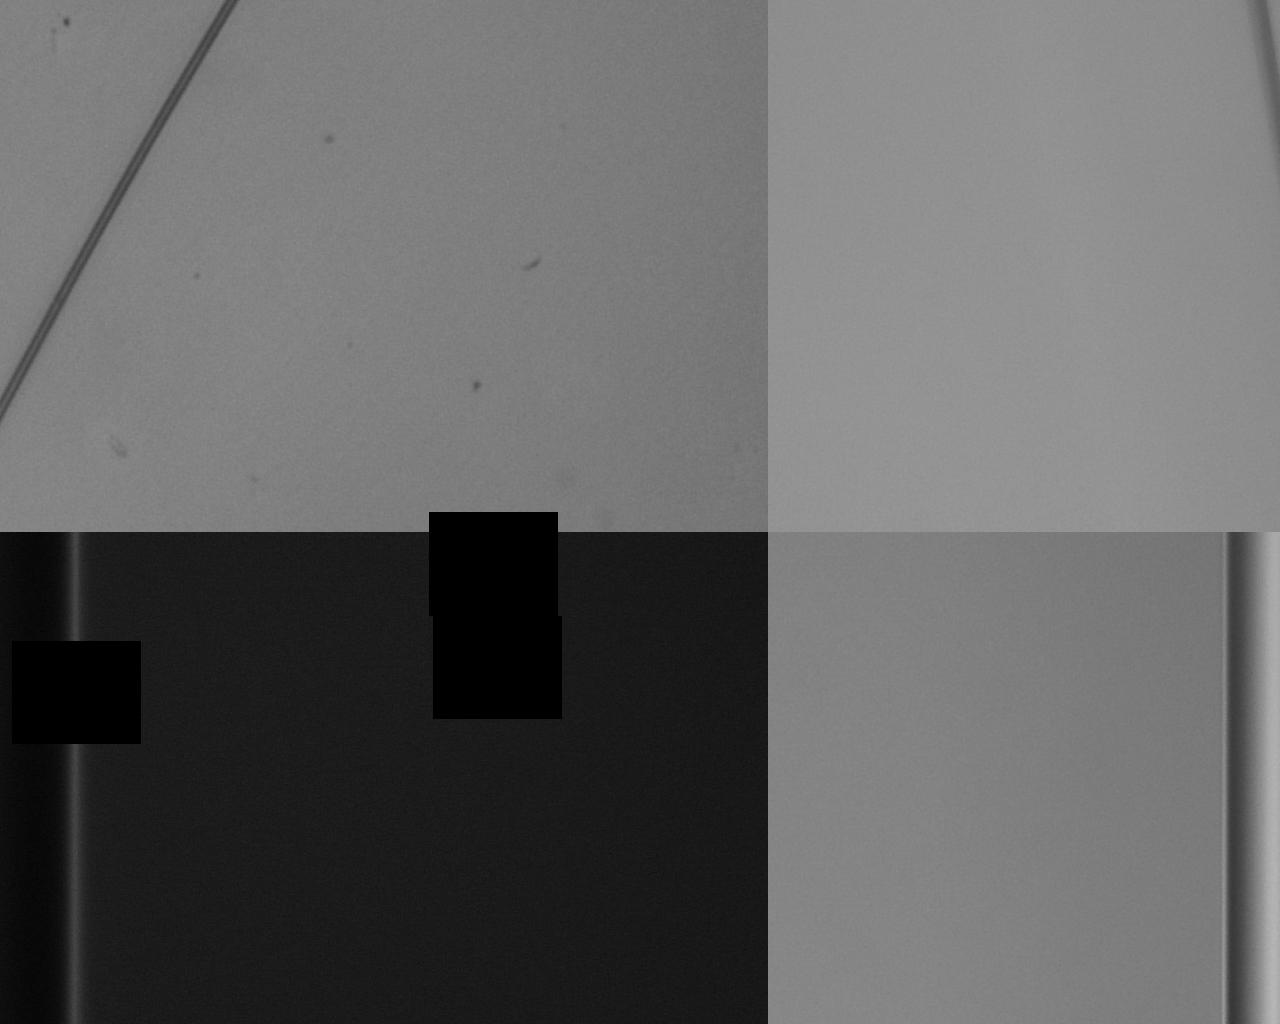fiber: (192, 0, 588, 675), (716, 841, 1280, 984), (716, 449, 1280, 553)
